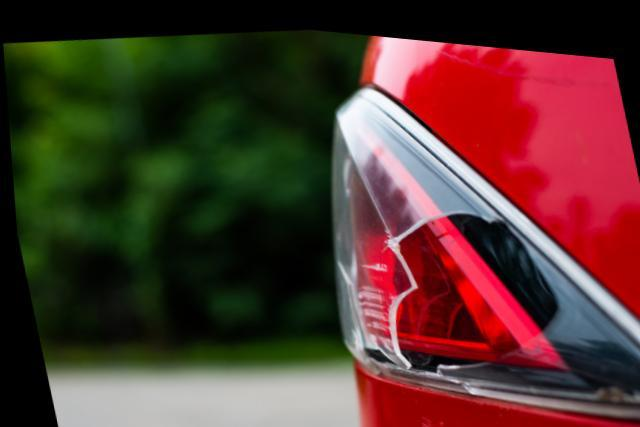lamp broken: (328, 77, 640, 409)
scratch: (389, 401, 445, 427)
